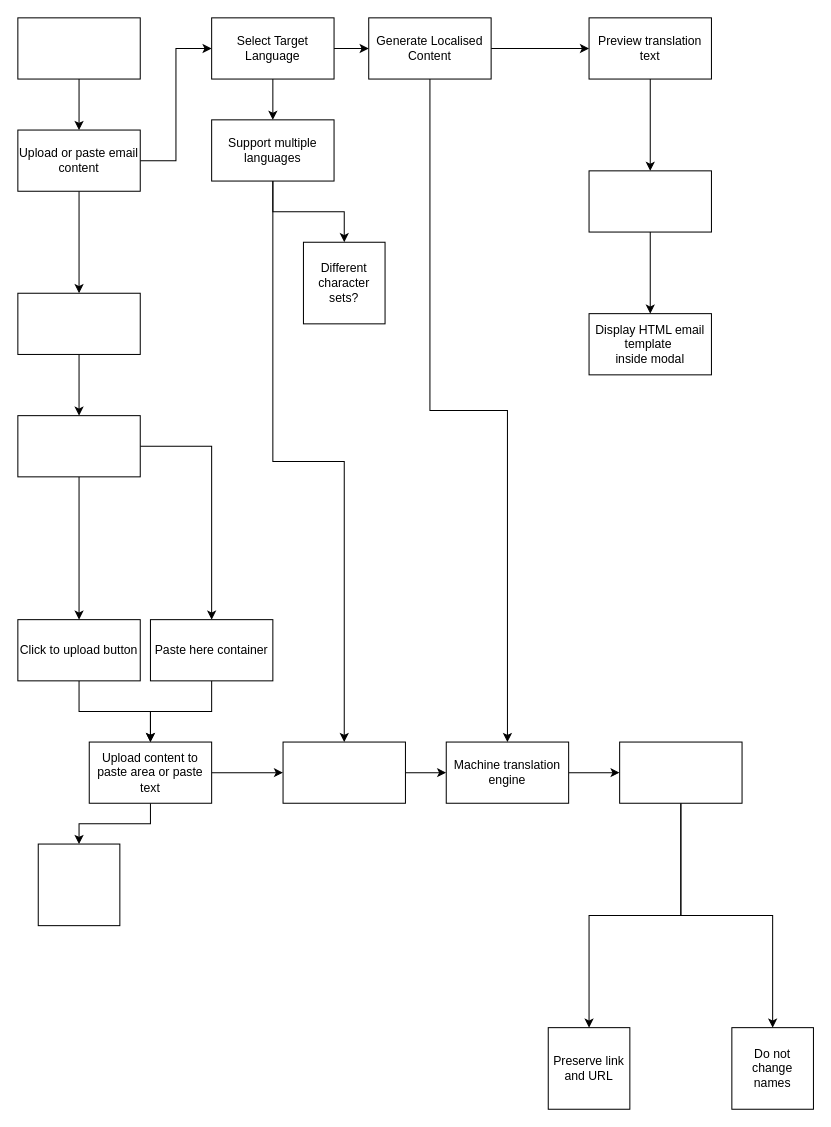
Some shapes in this 831 by 1127 pixel diagram are drawn without their labels. Each missing label, with the centre of its shape:
Button with paste area: point (78, 446)
Char limits?: point (78, 884)
Display using a modal: point (649, 201)
Format: point (680, 772)
Localise Email Content: point (78, 48)
Simple dropdown with a search filter: point (343, 772)
Support .docx .txt .json .csv and pasted text: point (78, 323)
